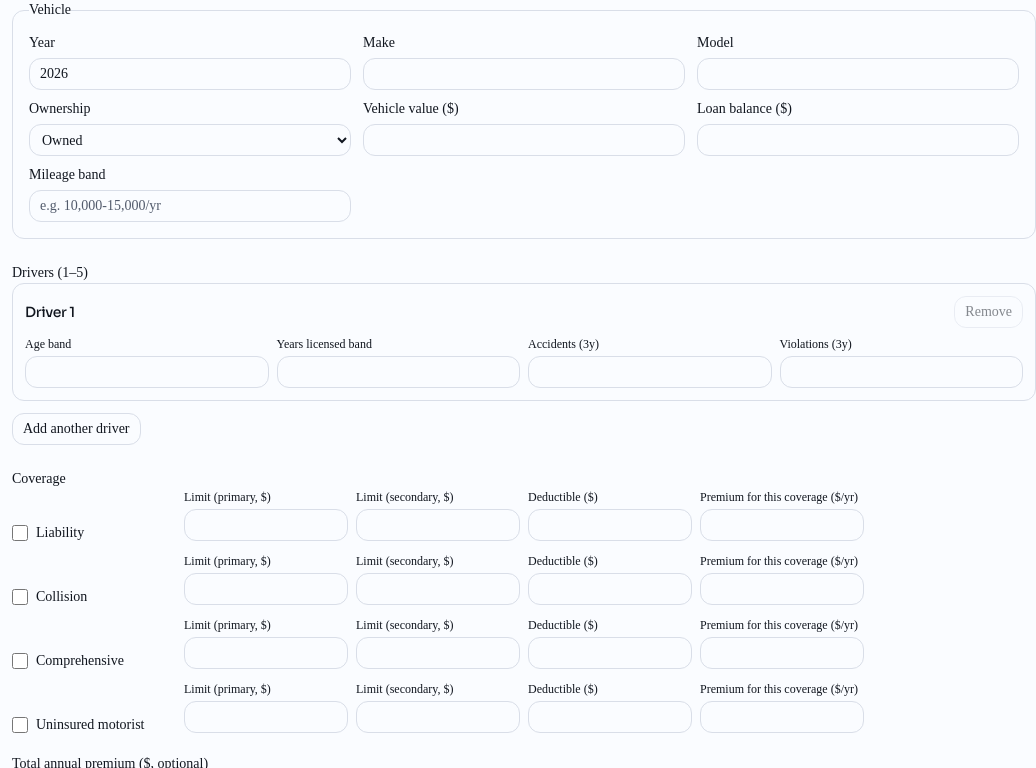
Test case: CarProfile › notes that coverage definitions and factor cards are deferred (CAR-2/CAR-3)
The width and height of the screenshot is (1036, 768).
Type "Honda" into the field labelled "Make".
click(524, 74); type("Honda")  # box [363,58,685,90]
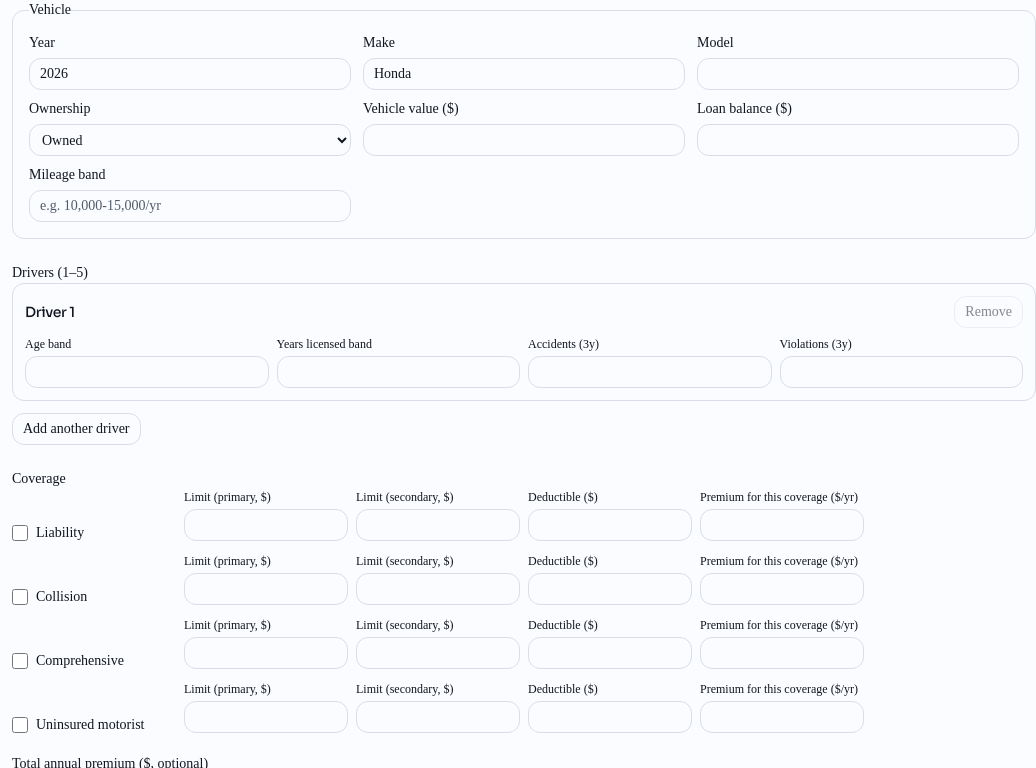
Type "Civic" into the field labelled "Model".
click(858, 74); type("Civic")  # box [697,58,1019,90]
(page scrolled)
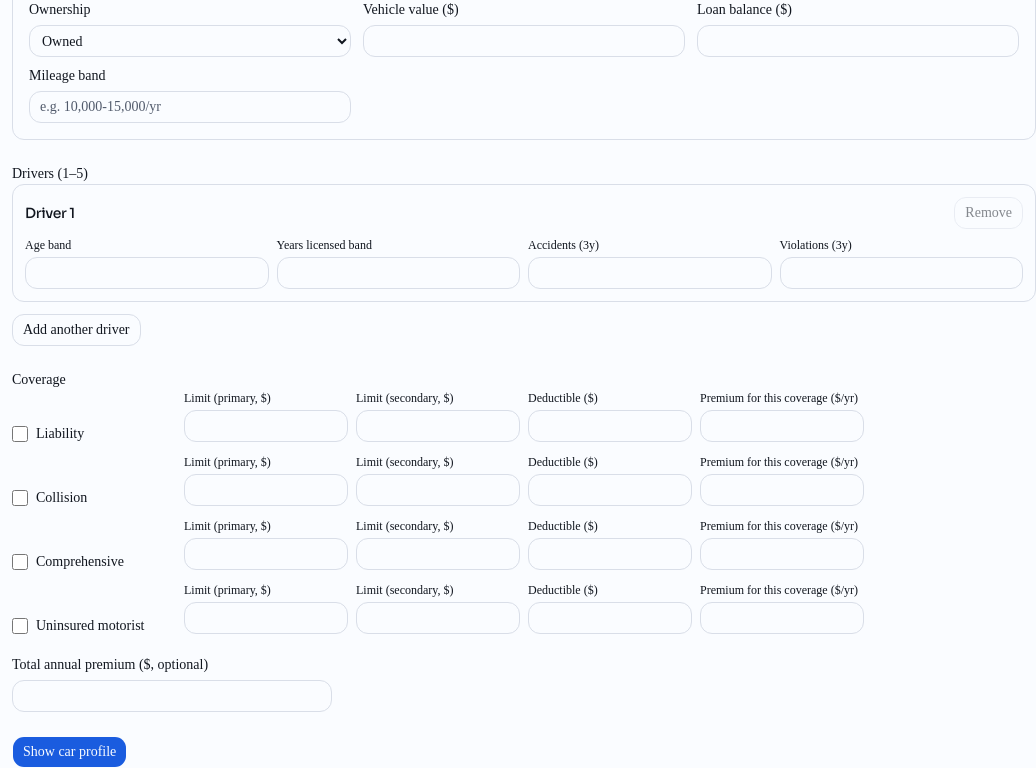
Click the button "Show car profile".
click(70, 752)  # box [12,736,127,767]
(page scrolled)
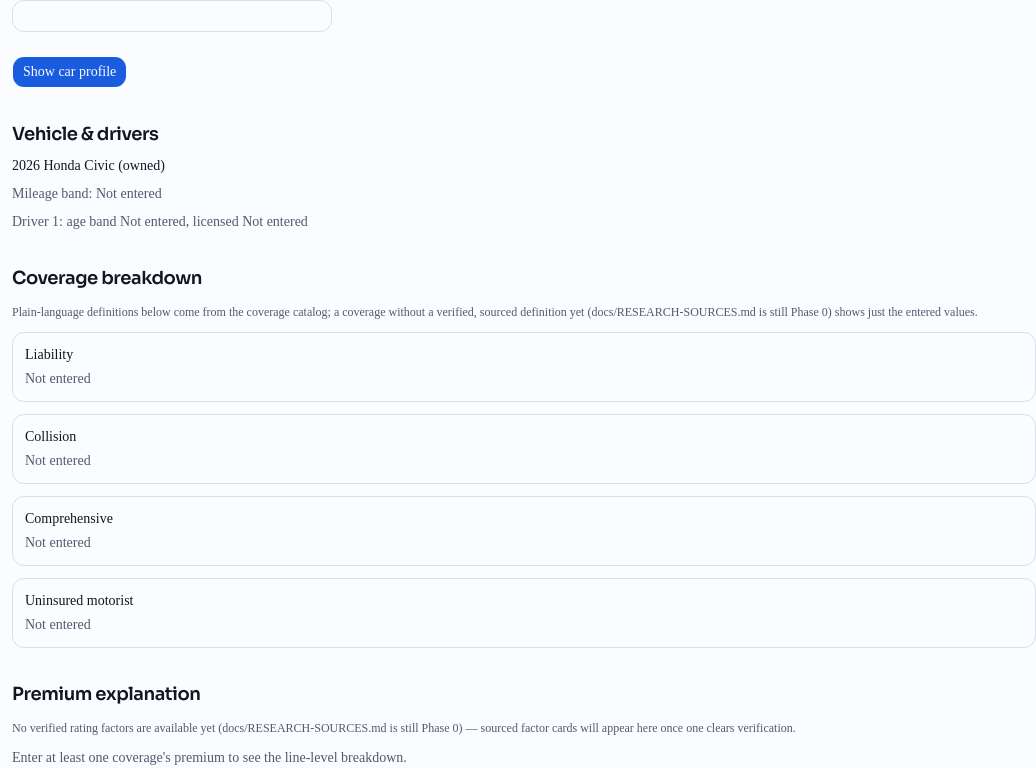
Expected: the heading "Coverage breakdown" is shown, [12,267,202,289]
Expected: the text "coverage catalog" is shown, [12,305,978,319]
Expected: the text "verified rating factors" is shown, [12,721,796,735]
